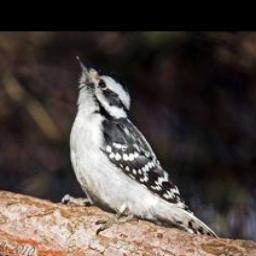Woodpecker: (56, 51, 217, 237)
